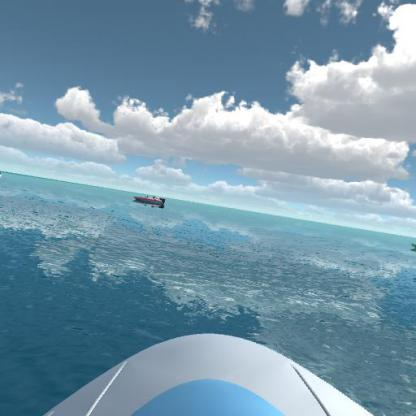usv3: (132, 190, 169, 209)
